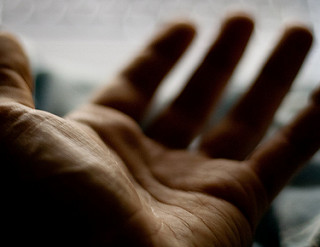palm: (64, 114, 249, 232)
